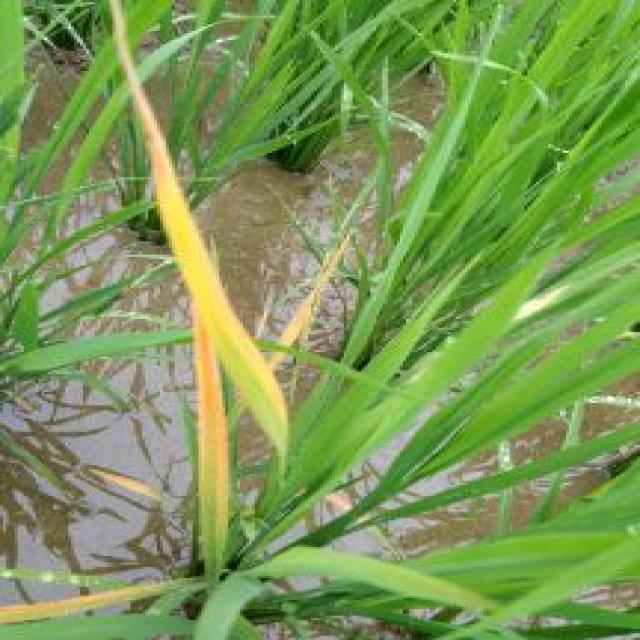Rice Tungro: (175, 248, 244, 640)
